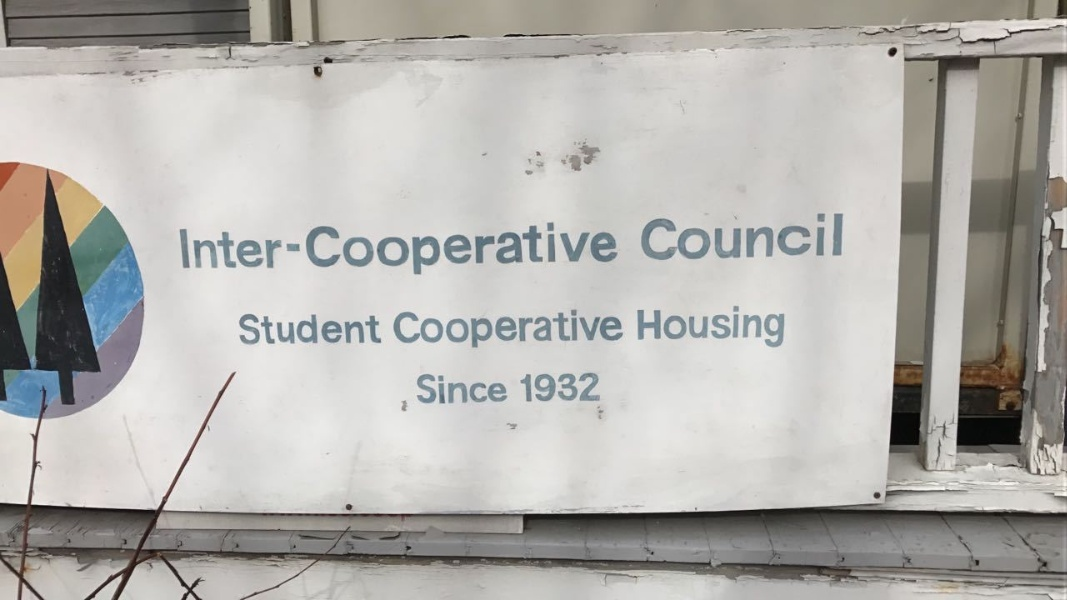text: (321, 220, 336, 275), (337, 220, 352, 275), (353, 220, 368, 275), (369, 220, 384, 275), (385, 220, 400, 275), (401, 220, 416, 275), (417, 220, 432, 275), (433, 220, 448, 275), (449, 220, 464, 275), (465, 220, 480, 275), (481, 220, 496, 275), (497, 220, 512, 275), (513, 220, 528, 275), (529, 220, 544, 275), (545, 220, 560, 275), (561, 220, 576, 275), (577, 220, 592, 275), (593, 220, 608, 275), (306, 220, 320, 275), (641, 212, 656, 261), (657, 212, 672, 261), (673, 212, 688, 261), (689, 212, 704, 261), (705, 212, 720, 261), (721, 212, 736, 261), (737, 212, 752, 261), (753, 212, 768, 261), (769, 212, 784, 261), (785, 212, 800, 261), (801, 212, 816, 261), (817, 212, 832, 261), (609, 220, 621, 275), (641, 304, 656, 348), (657, 304, 672, 348), (673, 304, 688, 348), (689, 304, 704, 348), (705, 304, 720, 348), (721, 304, 736, 348), (737, 304, 752, 348), (753, 304, 768, 348), (769, 304, 784, 348), (609, 309, 625, 350), (193, 228, 208, 270), (209, 228, 224, 270), (225, 228, 240, 270), (241, 228, 256, 270), (257, 228, 272, 270), (401, 309, 416, 350), (417, 309, 432, 350), (433, 309, 448, 350), (449, 309, 464, 350), (465, 309, 480, 350), (481, 309, 496, 350), (497, 309, 512, 350), (513, 309, 528, 350), (529, 309, 544, 350), (545, 309, 560, 350), (561, 309, 576, 350), (577, 309, 592, 350), (593, 309, 608, 350), (178, 228, 192, 270), (833, 212, 845, 261), (241, 313, 256, 345), (257, 313, 272, 345), (273, 313, 288, 345), (289, 313, 304, 345), (305, 313, 320, 345), (321, 313, 336, 345), (337, 313, 352, 345), (353, 313, 368, 345), (417, 374, 432, 404), (433, 374, 448, 404), (449, 374, 464, 404), (465, 374, 480, 404), (481, 374, 496, 404), (273, 228, 283, 270), (529, 373, 544, 401), (545, 373, 560, 401), (561, 373, 576, 401), (577, 373, 592, 401), (369, 313, 382, 345), (497, 374, 508, 404), (593, 373, 603, 401), (394, 309, 400, 350), (520, 373, 528, 401), (636, 304, 640, 348), (289, 242, 301, 253), (785, 304, 786, 348), (286, 242, 288, 253)
